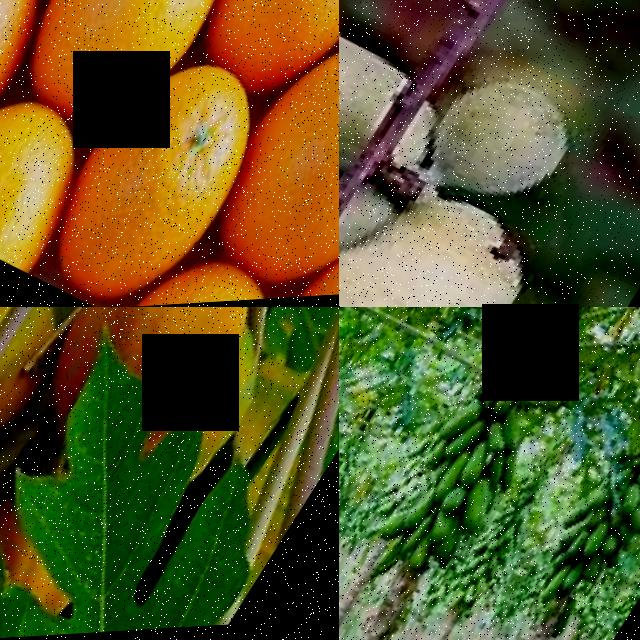orange: (38, 36, 297, 307), (197, 10, 339, 307), (8, 0, 269, 147), (0, 68, 119, 275), (177, 0, 339, 109), (0, 0, 70, 189), (147, 235, 324, 307)
pawpaw: (0, 307, 108, 480), (444, 393, 495, 450), (438, 447, 484, 507), (463, 485, 508, 538), (587, 519, 627, 566)
